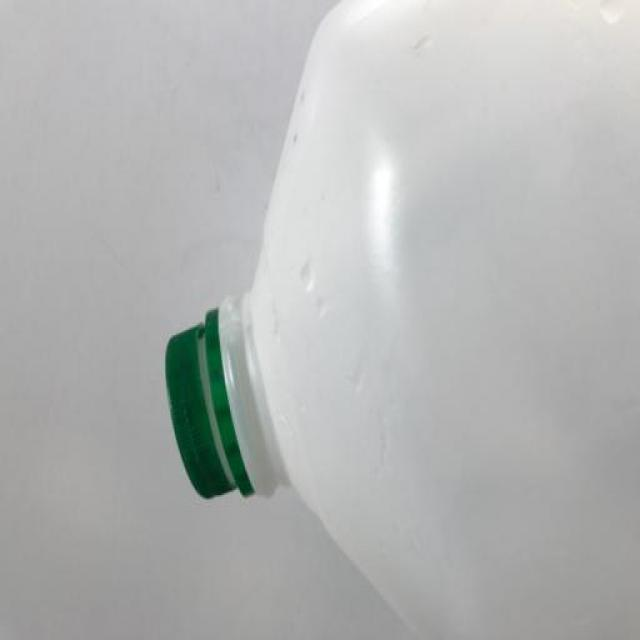plastic_bottle: (156, 1, 640, 640)
